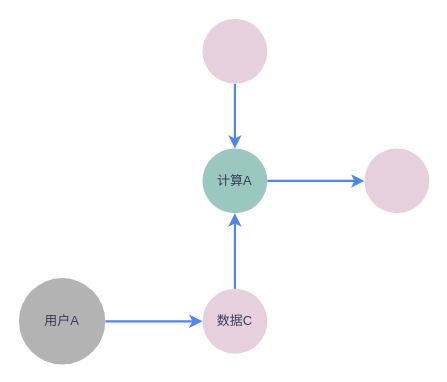
Some shapes in this 447 by 382 pixel diagram are drawn without their labels. The centre of each missing label's shape, as x and y in pixels:
数据A: point (234, 50)
数据B: point (396, 180)
